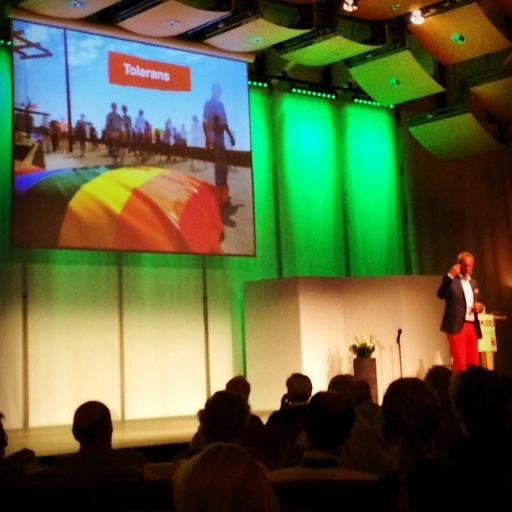hand: (449, 262, 463, 277), (470, 301, 485, 312)
